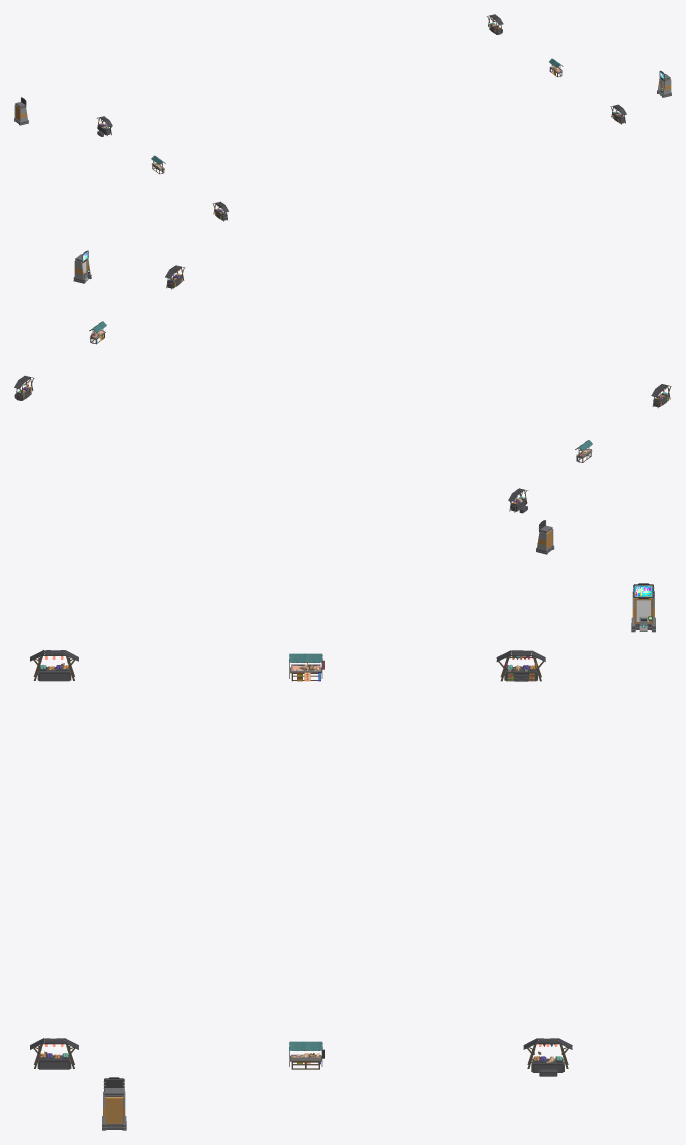
The model's file is Shops.glb.
3 views of the same model, one above another, from view 1: azimuth 30°, elevation 25°; view 2: azimuth 150°, elevation 25°; view 3: azimuth 270°, elevation 25° (orthographic). The views are drawn at different scales.
Visible parts, largest first — view 1: no part large enough to name; view 2: SM_Prop_VendingMachine_Soda_01__1_; view 3: SM_Prop_VendingMachine_Soda_01, SM_Prop_VendingMachine_Soda_01__1_.
Part boxes in pixels (box(x1,y1,x2,y2)): SM_Prop_VendingMachine_Soda_01__1_: box(536, 520, 554, 554); SM_Prop_VendingMachine_Soda_01: box(102, 1077, 126, 1130); SM_Prop_VendingMachine_Soda_01__1_: box(631, 583, 655, 632).
Size of the model in its own units: 93.16 by 4.36 by 48.6.
3 materials, 2 textured.
